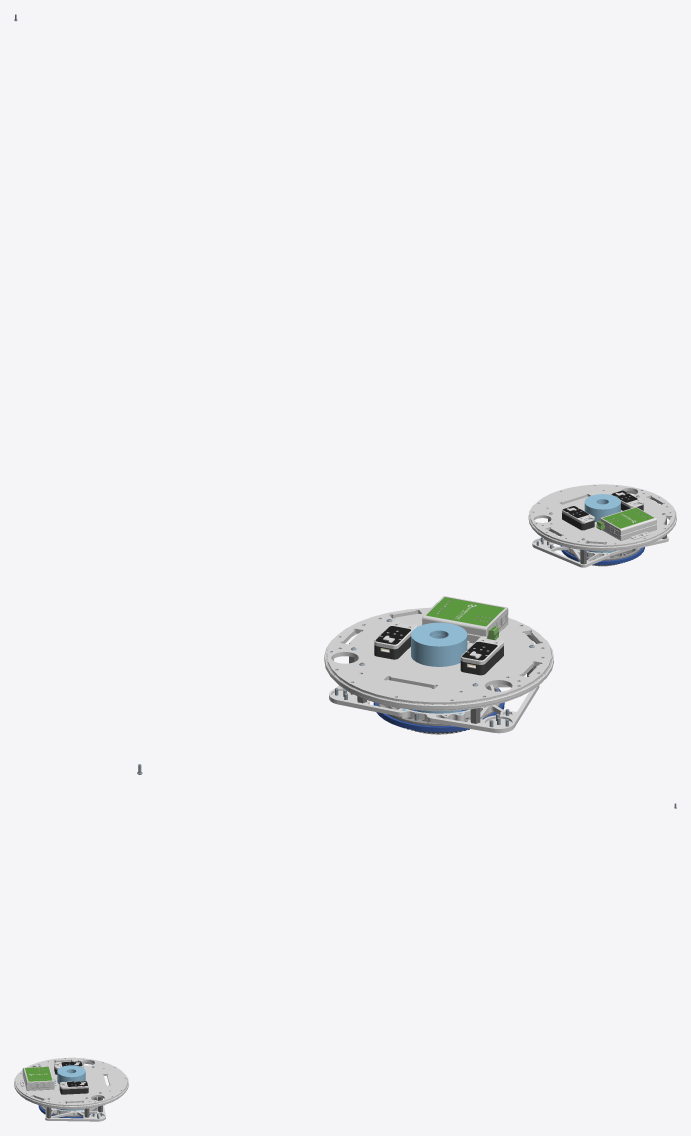
Rendered from turret assembly rotating.glb.
3 views of the same model, one above another, from view 1: azimuth 30°, elevation 25°; view 2: azimuth 150°, elevation 25°; view 3: azimuth 270°, elevation 25° (orthographic). The views are drawn at different scales.
Visible parts, largest first — view 1: THE PLATE THAT IS THE TURRET BUT IT IS LARP, butterfly/ 2op plate, sw-005_1, Power Slip RIng; view 2: THE PLATE THAT IS THE TURRET BUT IT IS LARP, butterfly/ 2op plate, id1017 (×2), Power Slip RIng, sw-005_1, KA OUTER CATALOG_KA120002.step, 2026 Rotor Tail (SW24), 12" burger clamp, clamp insert, KA SEPARATOR SAMPLE_02510120.step; view 3: THE PLATE THAT IS THE TURRET BUT IT IS LARP, butterfly/ 2op plate, Power Slip RIng, sw-005_1.
Boxes of the visible parts, left/top/right/bottom form: THE PLATE THAT IS THE TURRET BUT IT IS LARP: left=530, top=484, right=675, bottom=546; butterfly/ 2op plate: left=532, top=533, right=668, bottom=567; sw-005_1: left=599, top=507, right=656, bottom=534; Power Slip RIng: left=584, top=494, right=620, bottom=552; THE PLATE THAT IS THE TURRET BUT IT IS LARP: left=327, top=607, right=551, bottom=704; butterfly/ 2op plate: left=329, top=684, right=539, bottom=733; id1017 (×2): left=374, top=620, right=503, bottom=675; Power Slip RIng: left=411, top=622, right=467, bottom=713; sw-005_1: left=422, top=596, right=508, bottom=636; KA OUTER CATALOG_KA120002.step: left=324, top=637, right=553, bottom=709; 2026 Rotor Tail (SW24): left=373, top=688, right=504, bottom=732; 12" burger clamp: left=332, top=633, right=542, bottom=711; clamp insert: left=378, top=688, right=500, bottom=725; KA SEPARATOR SAMPLE_02510120.step: left=326, top=650, right=551, bottom=704; THE PLATE THAT IS THE TURRET BUT IT IS LARP: left=15, top=1057, right=127, bottom=1106; butterfly/ 2op plate: left=45, top=1097, right=105, bottom=1121; Power Slip RIng: left=57, top=1065, right=85, bottom=1110; sw-005_1: left=22, top=1066, right=54, bottom=1086.
Size of the model in its own units: 0.6484 by 0.7157 by 1.83.
